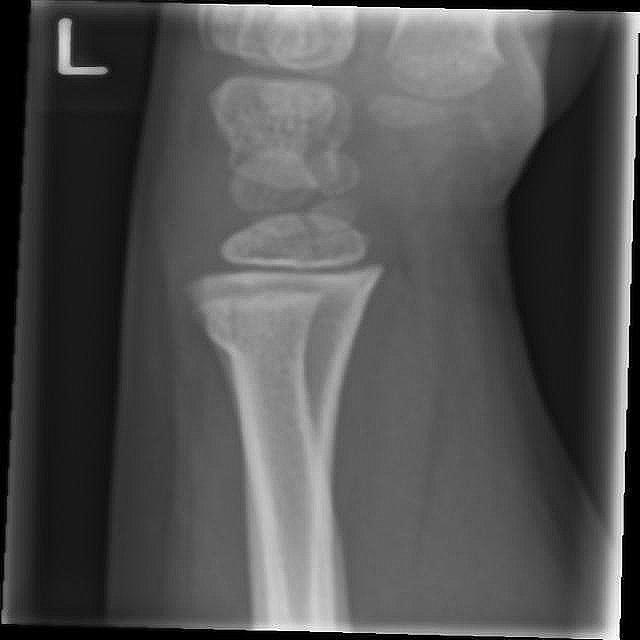bone: (197, 306, 368, 362)
